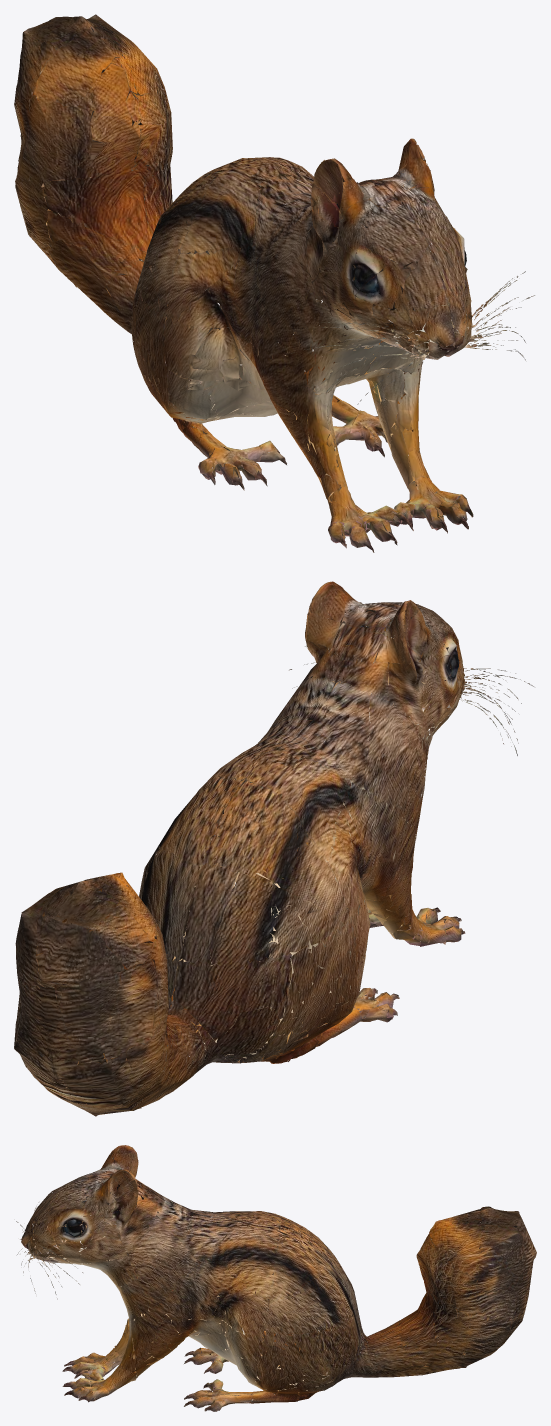
Rendered from squirrel-build44.glb.
The picture shows the model from 3 angles, top to bottom: view 1: azimuth 30°, elevation 25°; view 2: azimuth 150°, elevation 25°; view 3: azimuth 270°, elevation 25°; orthographic projection. The views are drawn at different scales.
Visible parts, largest first — view 1: squirrel; view 2: squirrel; view 3: squirrel.
Boxes of the visible parts, box(x1,y1,x2,y2) form: squirrel: box(14, 14, 534, 552); squirrel: box(14, 581, 533, 1116); squirrel: box(16, 1145, 536, 1411).
Size of the model in its own units: 0.6587 by 1 by 2.09.
1 material, 1 textured.
